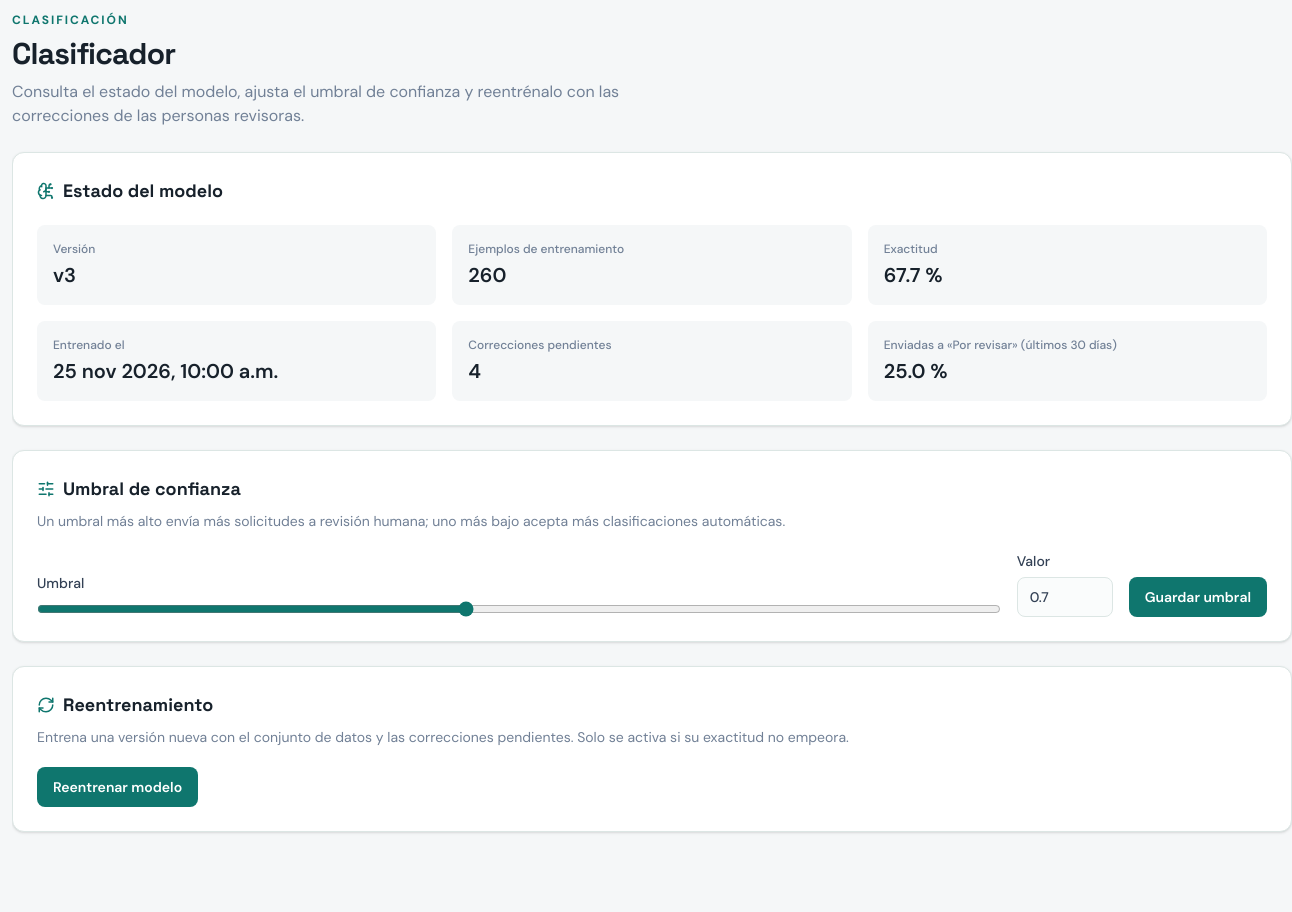
Test: ClasificadorPage (S5-12, HU-02.2, HU-12.1, HU-12.2) › muestra el 422 del umbral con ErrorAlert
Replace the text in the number field labelled "Valor" with "0.99" at x=1065, y=597, box left=1017, top=577, right=1113, bottom=617
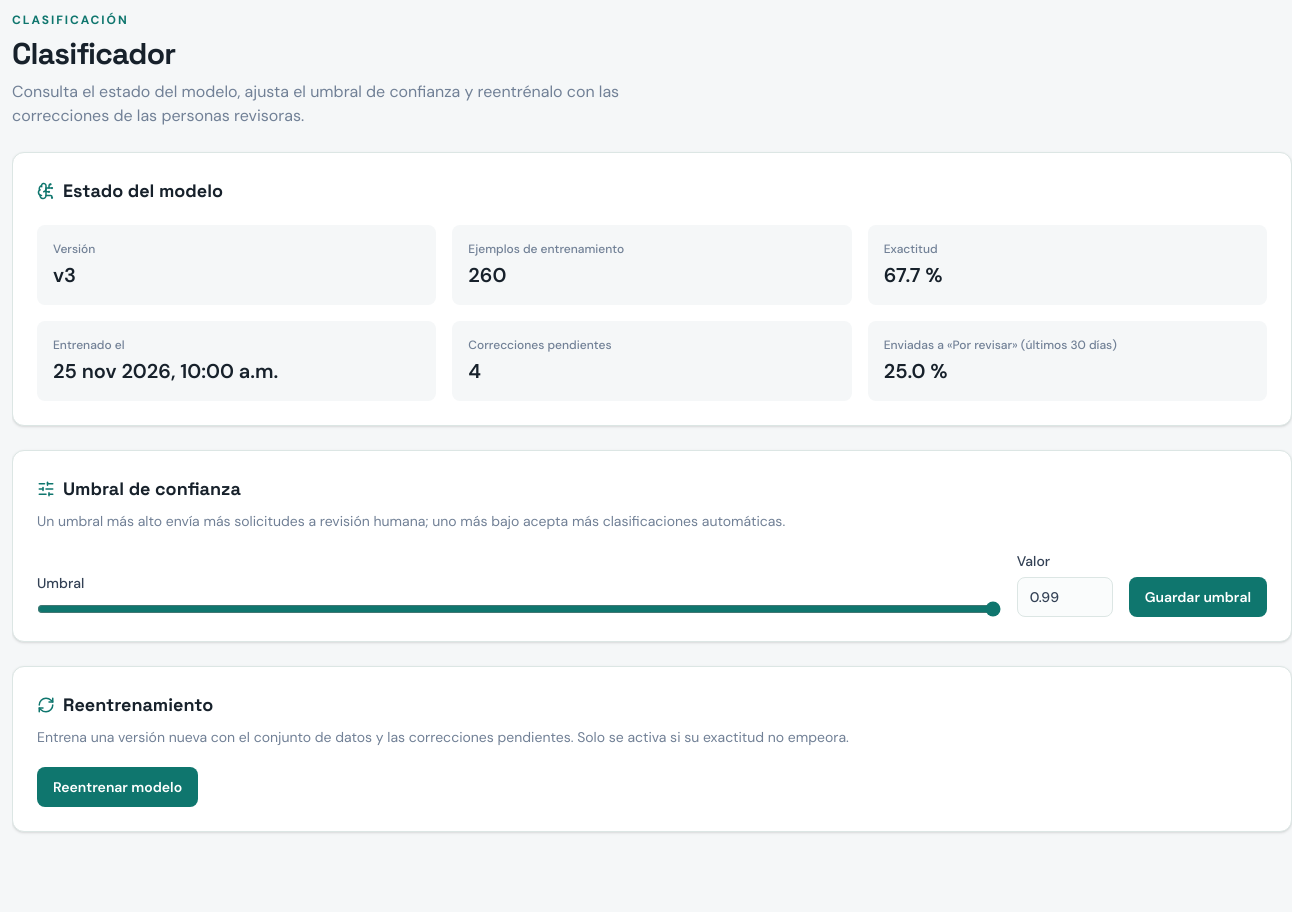
Click the button "Guardar umbral" at x=1198, y=597, box left=1129, top=577, right=1267, bottom=617
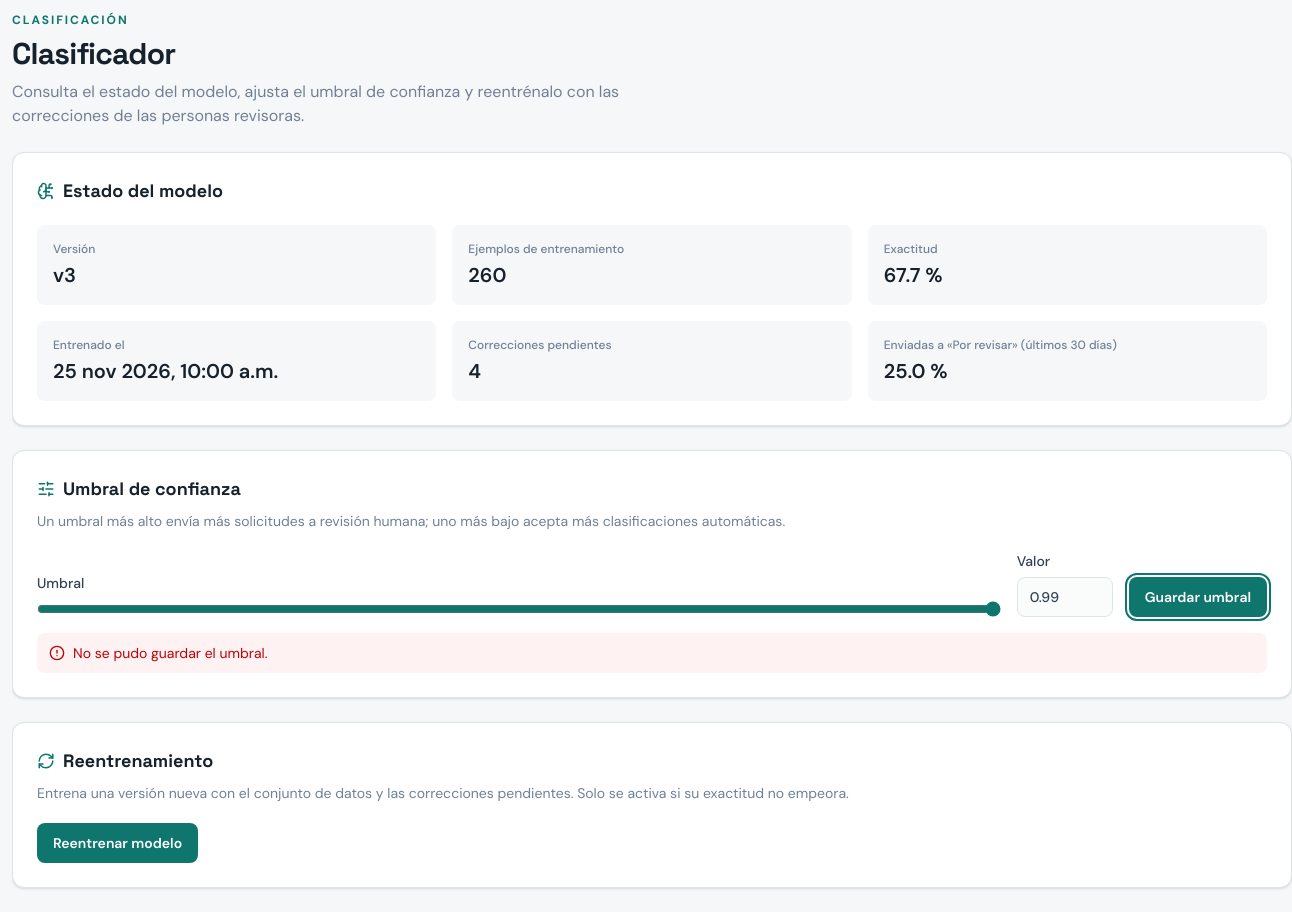
Result: the message "No se pudo guardar el umbral." is shown at left=37, top=633, right=1267, bottom=673
